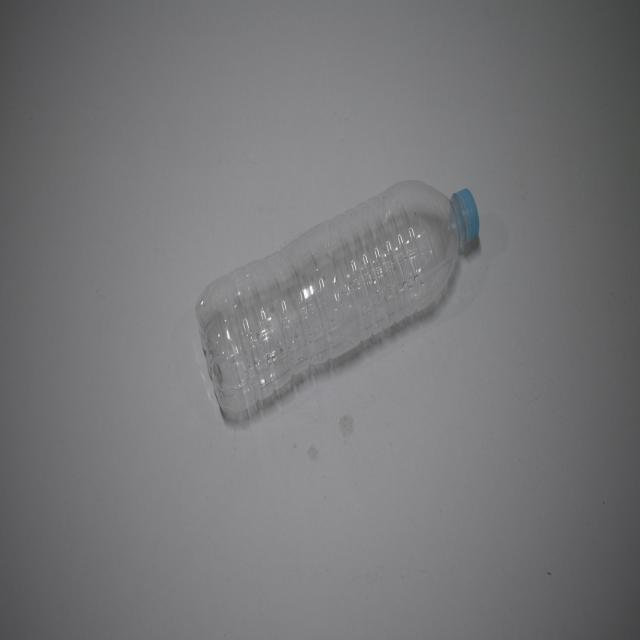bottle: (188, 168, 491, 438)
